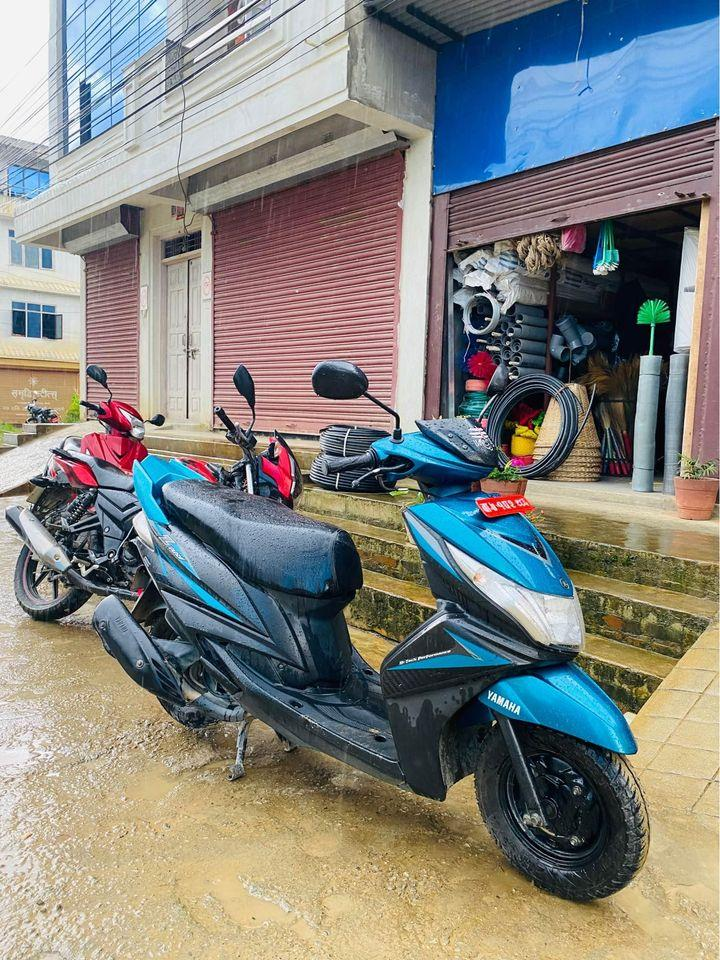scooter: (83, 353, 653, 899)
